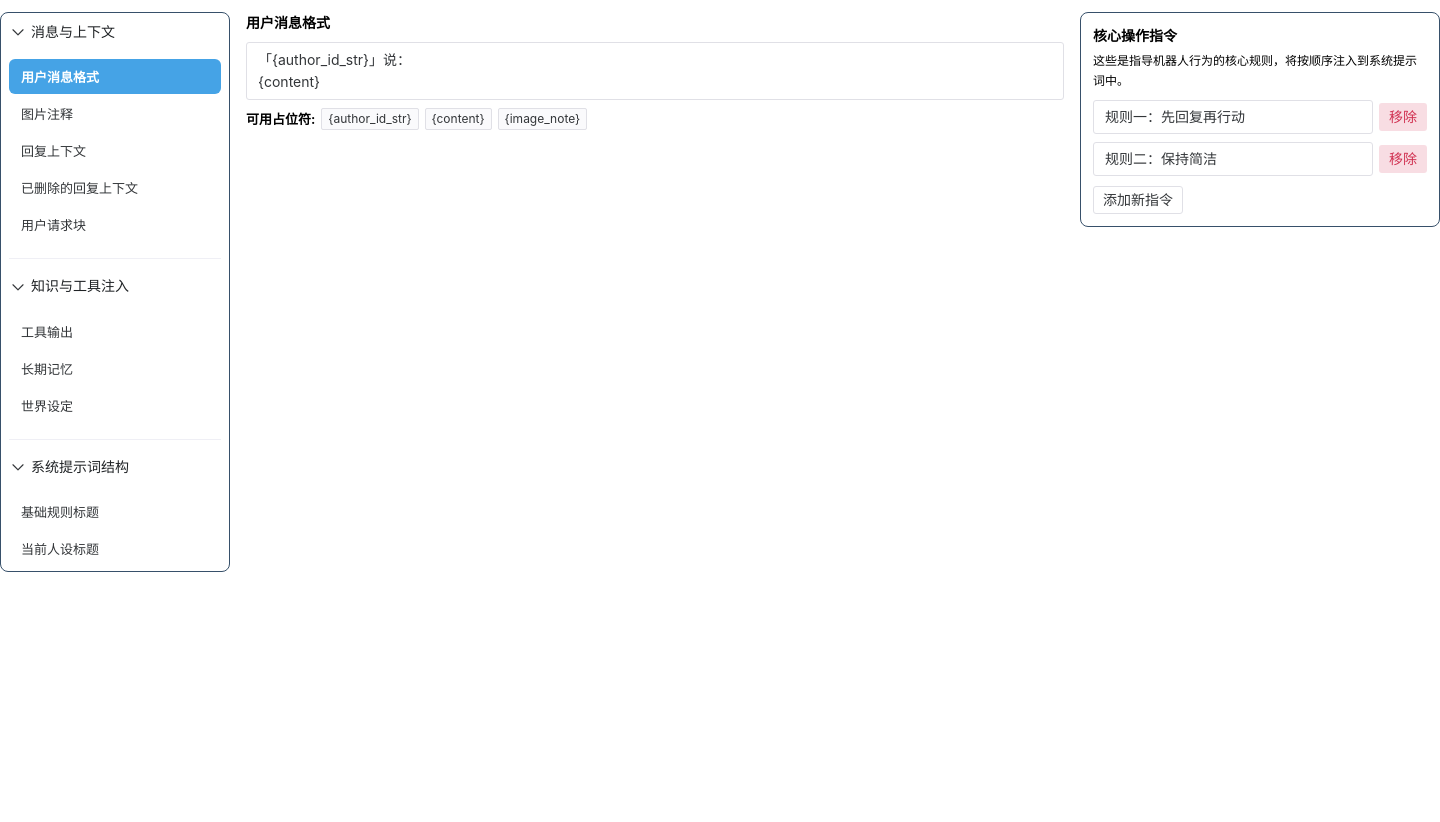
TemplateEditor — security semantic warnings (F-4) › warns on user_request_block about the {parts} placeholder
The image size is (1440, 822).
Step 1. Click the button with class "template-editor-nav-item" showing "用户请求块" → coordinates (115, 225), box [9,207,221,242]
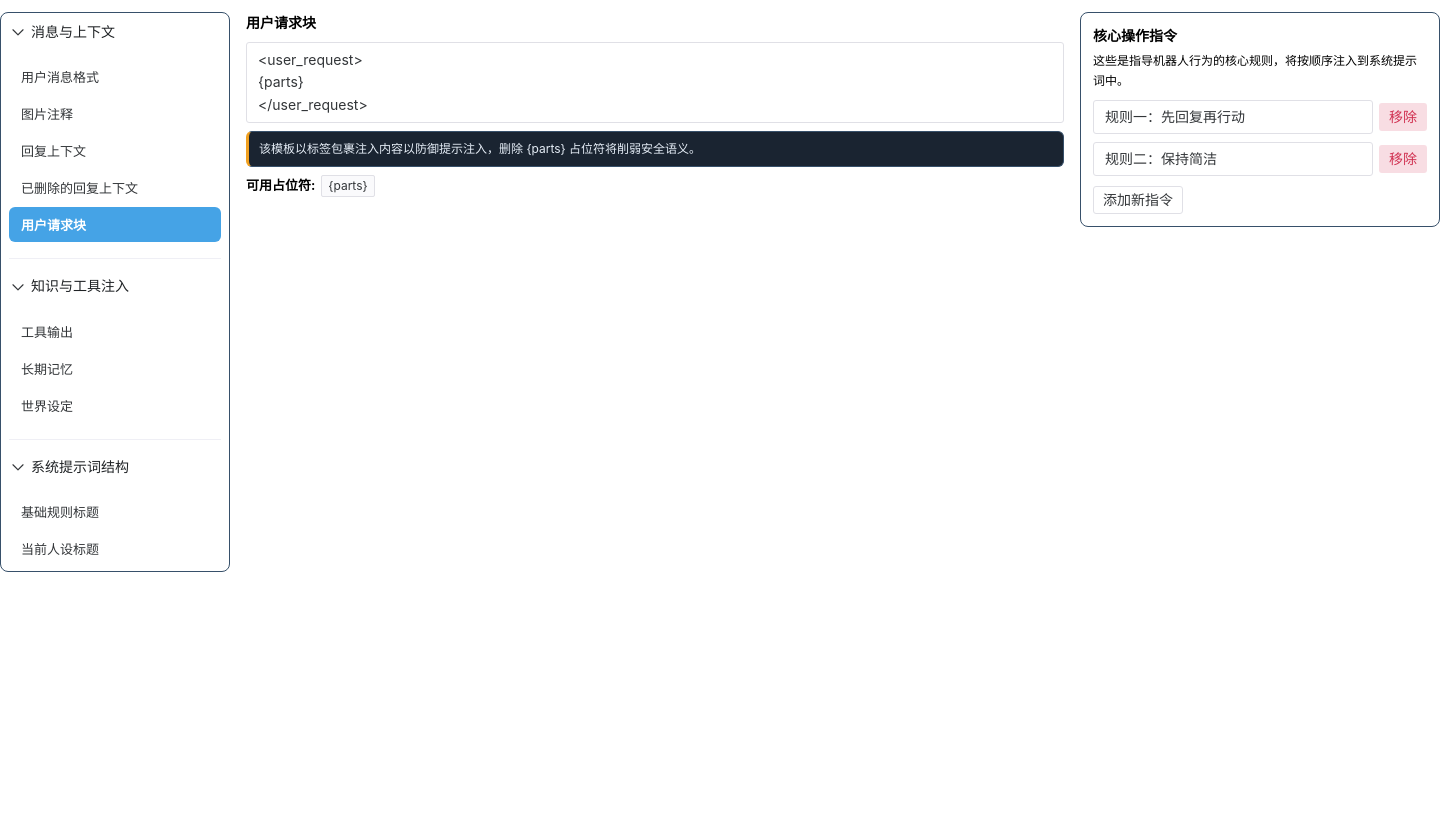
Result: the message with class "template-editor-security-warning" shows "{parts}" at [259,141,701,156]
Result: the message with class "template-editor-security-warning" shows "防御" at [246,131,1064,167]
